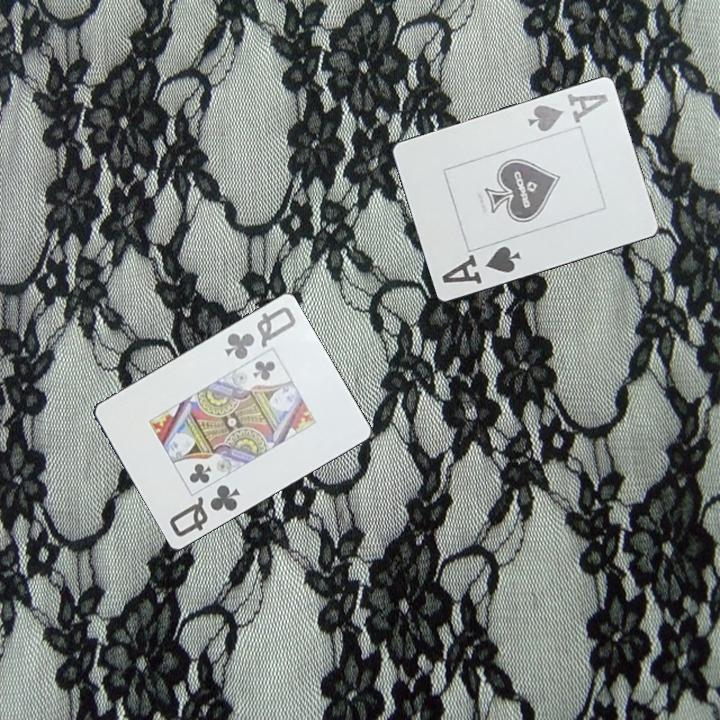As: (524, 90, 611, 135), (438, 243, 525, 287)
Qc: (220, 303, 299, 363), (165, 481, 243, 540)
